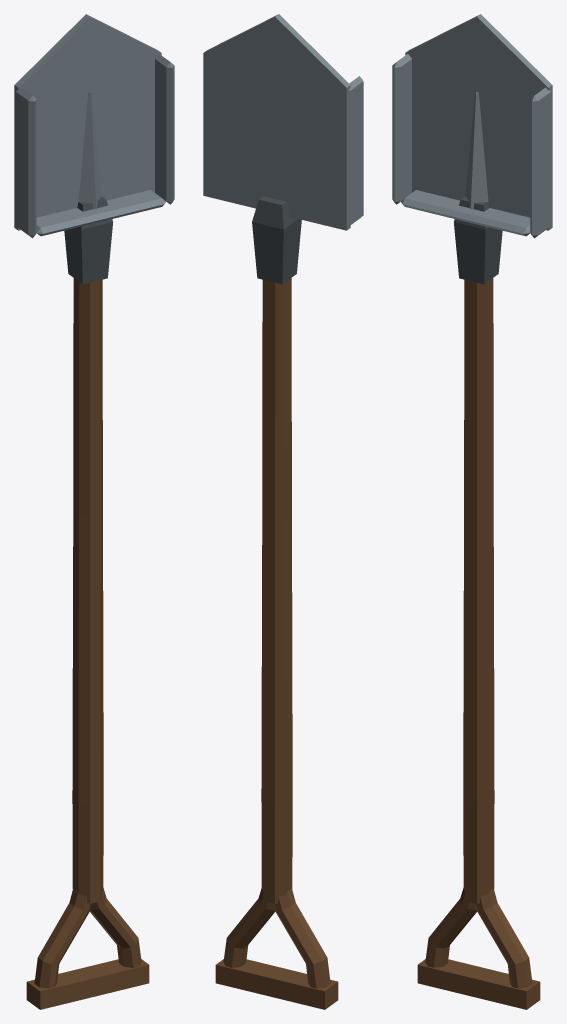
File: mdvl_props_shovel_01.glb
The picture shows the model from 3 angles, left to right: view 1: azimuth 30°, elevation 25°; view 2: azimuth 150°, elevation 25°; view 3: azimuth 330°, elevation 25°; orthographic projection.
Parts seen in each view (by area): view 1: mdvl_props_shovel_01; view 2: mdvl_props_shovel_01; view 3: mdvl_props_shovel_01.
Boxes of the visible parts, bbox=[...] form: mdvl_props_shovel_01: bbox=[14, 14, 174, 1009]; mdvl_props_shovel_01: bbox=[203, 14, 363, 1009]; mdvl_props_shovel_01: bbox=[392, 14, 552, 1009].
Size of the model in its own units: 0.214 by 1.37 by 0.0633.
1 material, 1 textured.
